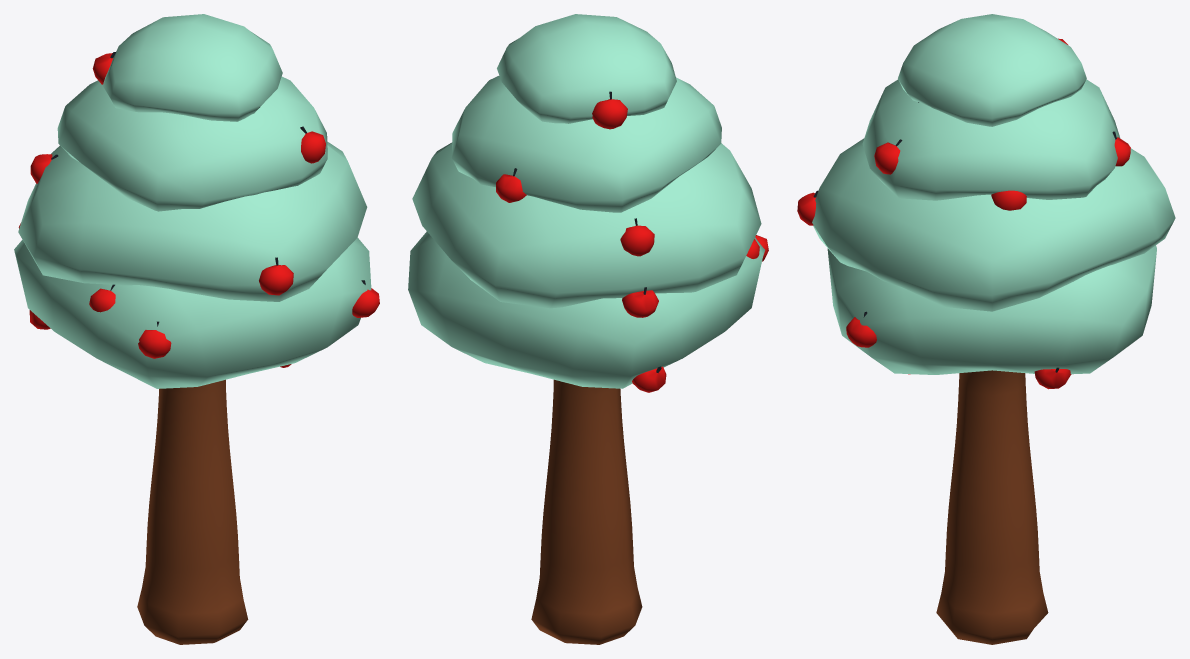
3 views of the same model, side by side, from view 1: azimuth 30°, elevation 25°; view 2: azimuth 150°, elevation 25°; view 3: azimuth 270°, elevation 25° (orthographic).
Visible parts, largest first — view 1: Plane.002, Trunk.003, Plane.002|Icosphere|Dupli|19, Plane.002|Icosphere|Dupli|1, Plane.002|Icosphere|Dupli|10, Plane.002|Icosphere|Dupli|13; view 2: Plane.002, Trunk.003, Plane.002|Icosphere|Dupli|2, Plane.002|Icosphere|Dupli|14, Plane.002|Icosphere|Dupli|11, Plane.002|Icosphere|Dupli|8, Plane.002|Icosphere|Dupli|; view 3: Plane.002, Trunk.003, Plane.002|Icosphere|Dupli|10, Plane.002|Icosphere|Dupli|13, Plane.002|Icosphere|Dupli|6, Plane.002|Icosphere|Dupli|18.
Part boxes in pixels (x1,y1,x2,y2): Plane.002: (14,14,371,388); Trunk.003: (137,379,248,644); Plane.002|Icosphere|Dupli|19: (259,257,293,295); Plane.002|Icosphere|Dupli|1: (138,321,171,358); Plane.002|Icosphere|Dupli|10: (300,126,325,163); Plane.002|Icosphere|Dupli|13: (352,280,379,317); Plane.002: (408,14,765,388); Trunk.003: (531,379,642,644); Plane.002|Icosphere|Dupli|2: (592,91,627,129); Plane.002|Icosphere|Dupli|14: (620,218,654,256); Plane.002|Icosphere|Dupli|11: (622,287,658,317); Plane.002|Icosphere|Dupli|8: (496,168,526,202); Plane.002|Icosphere|Dupli|: (632,366,666,392); Plane.002: (812,14,1175,374); Trunk.003: (936,370,1048,644); Plane.002|Icosphere|Dupli|10: (874,139,902,174); Plane.002|Icosphere|Dupli|13: (846,311,876,347); Plane.002|Icosphere|Dupli|6: (1034,367,1070,389); Plane.002|Icosphere|Dupli|18: (991,190,1026,210).
Bounding box in the file's own units: 784 × 1392 × 760.
